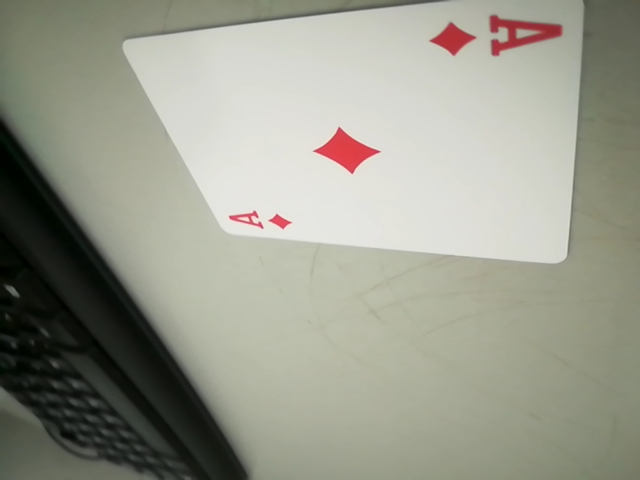fk a: (429, 8, 564, 62), (222, 203, 301, 235)
